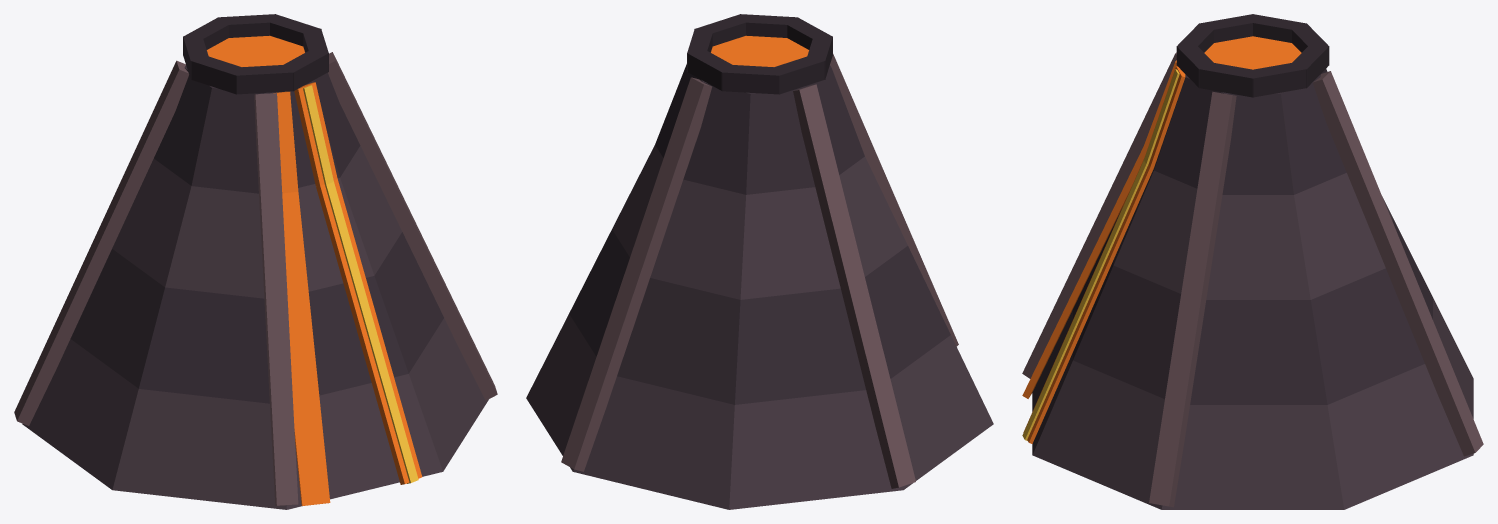
Rendered from env_r3_mini_volcano.glb.
3 views of the same model, side by side, from view 1: azimuth 30°, elevation 25°; view 2: azimuth 150°, elevation 25°; view 3: azimuth 270°, elevation 25° (orthographic).
Parts seen in each view (by area): view 1: env_r3_mini_volcano; view 2: env_r3_mini_volcano; view 3: env_r3_mini_volcano.
Boxes of the visible parts, x1=… form: env_r3_mini_volcano: x1=14, y1=14, x2=497, y2=509; env_r3_mini_volcano: x1=526, y1=14, x2=993, y2=509; env_r3_mini_volcano: x1=1022, y1=14, x2=1483, y2=509.
Size of the model in its own units: 9 by 8 by 9.
Materials: 1 (1 with a texture image).
